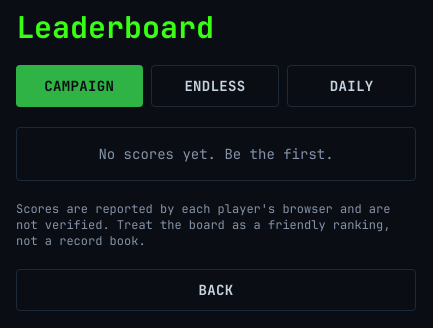
Test: Leaderboard › loads another mode when its tab is chosen
Expected: the list item "No scores yet. Be the first." is shown, [98,145,334,163]
Click the button "Endless" at (215,86), box [151,65,279,107]
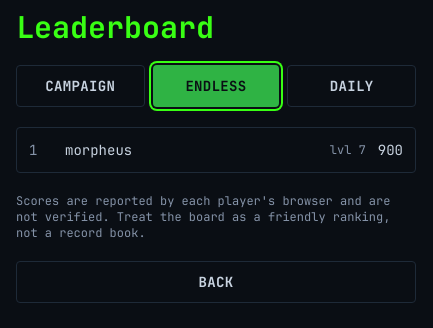
Result: the text "morpheus" is shown at [65,140,132,160]
